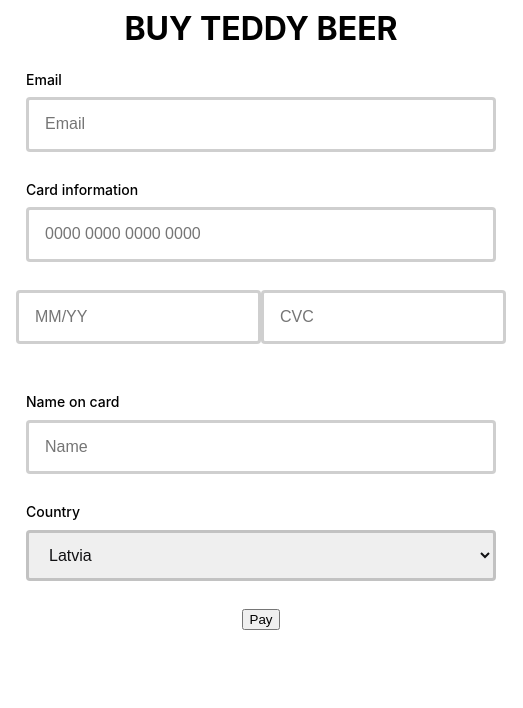
Test case: <PaymentForm/> › should validate incorrect data in form fields
Type "testtest.com" into the field with placeholder "Email" at (261, 125), box [26, 98, 496, 152]
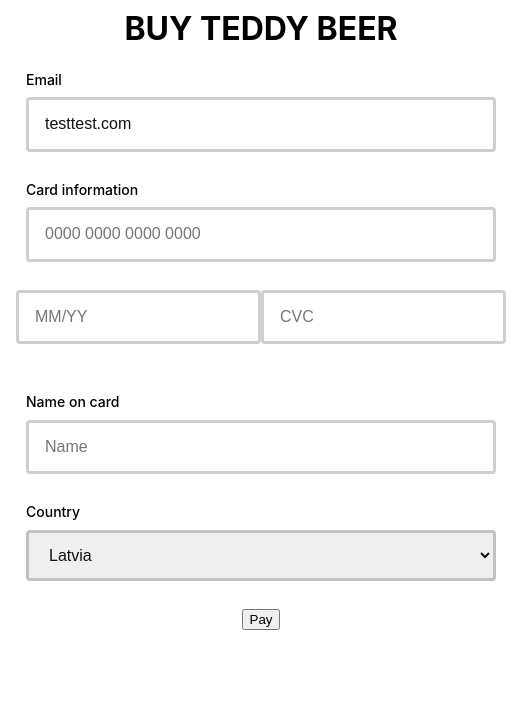
Type "7890654" into the number field with placeholder "0000 0000 0000 0000" at (261, 235), box [26, 208, 496, 262]
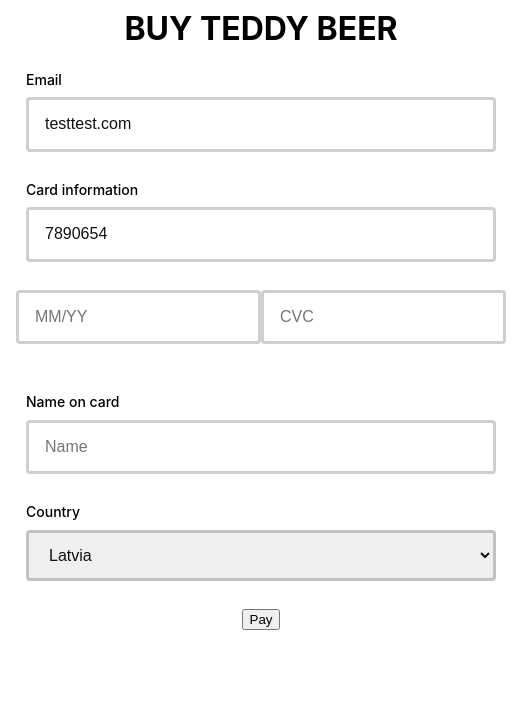
Type "24" into the number field with placeholder "MM/YY" at (138, 317), box [16, 290, 261, 344]
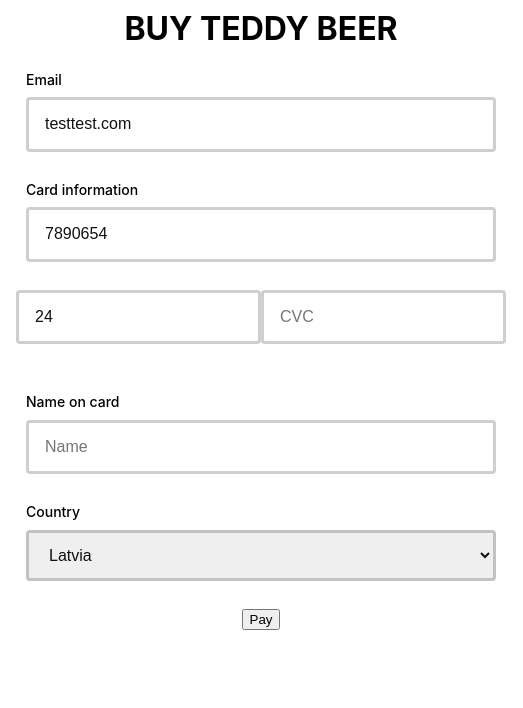
Type "1232" into the number field with placeholder "CVC" at (384, 317), box [261, 290, 506, 344]
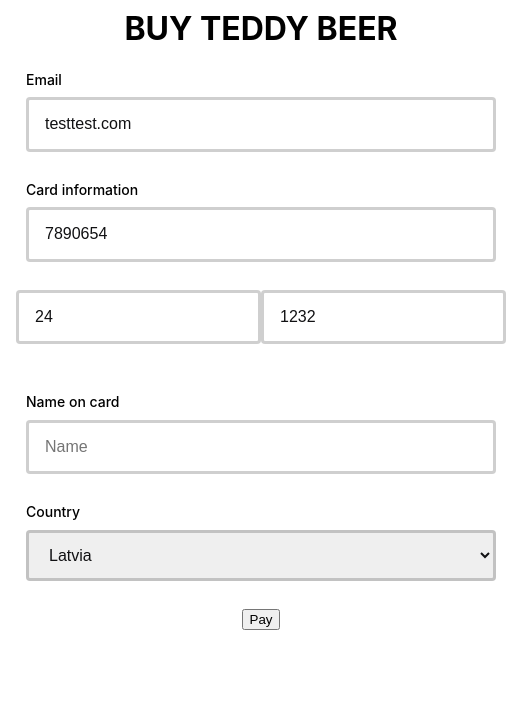
Type "Name12" into the field with placeholder "Name" at (261, 447), box [26, 420, 496, 474]
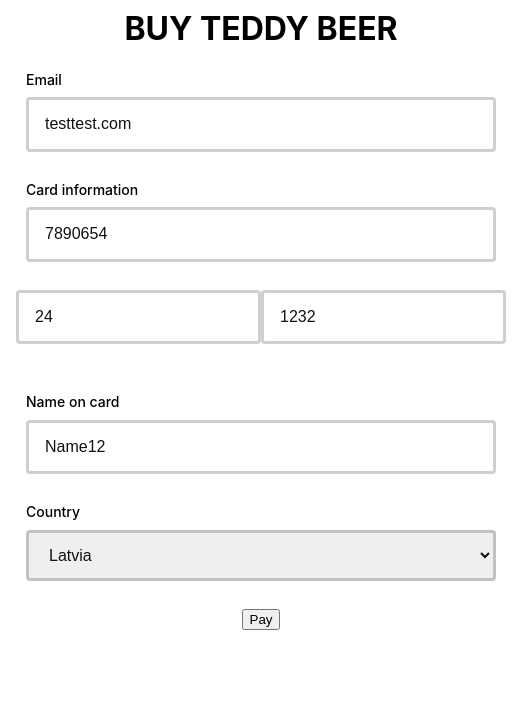
Submit the form from the button "Pay", box [242, 609, 280, 630]
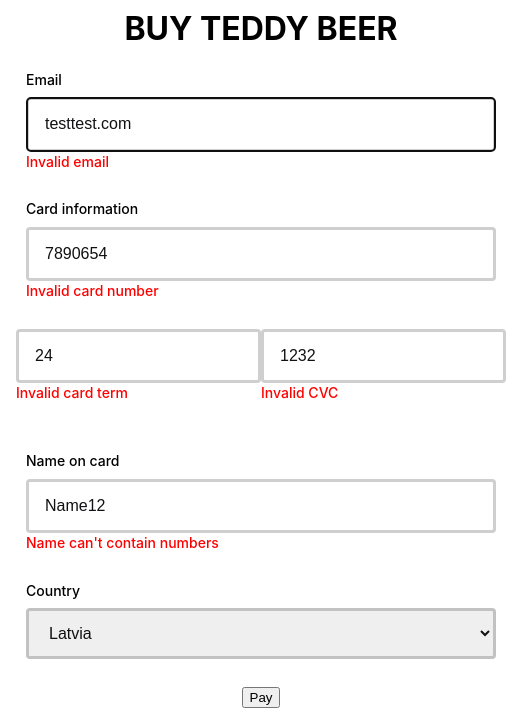
Expected: the text "Invalid email" is shown, [26, 153, 109, 170]
Expected: the text "Invalid card number" is shown, [26, 282, 159, 299]
Expected: the text "Invalid card term" is shown, [16, 384, 128, 401]
